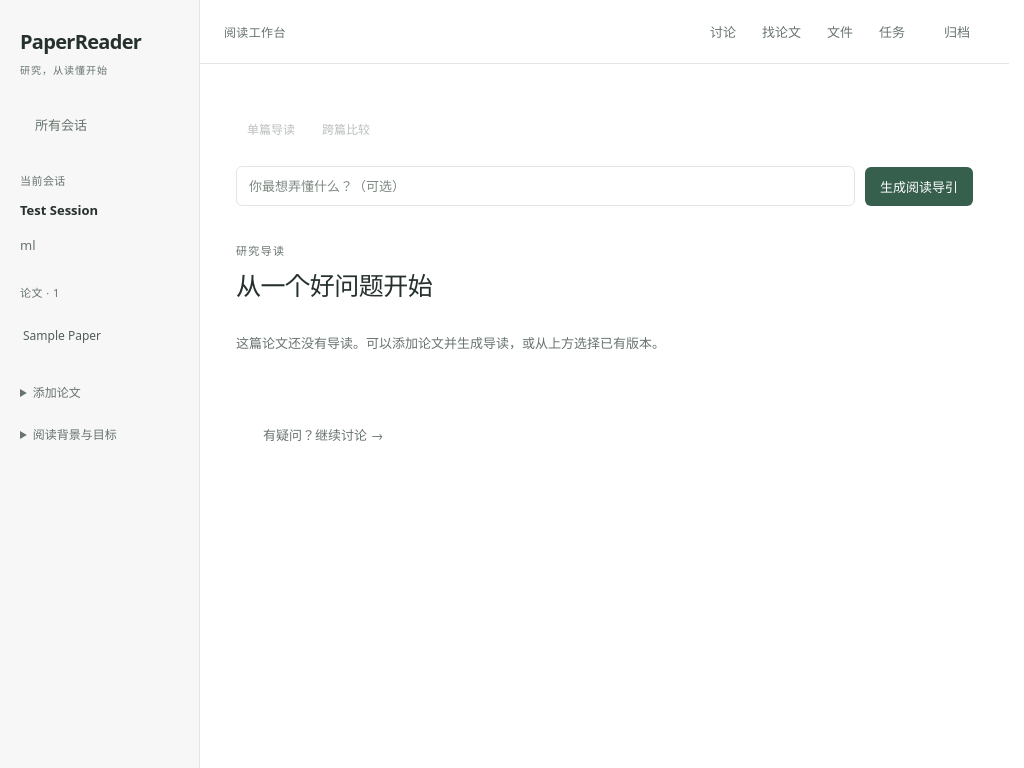
Scenario: WorkspaceScreen › retains session creation with reading background and goal
Click the button "所有会话": coordinates (61, 124) x1=20 y1=105 x2=102 y2=144
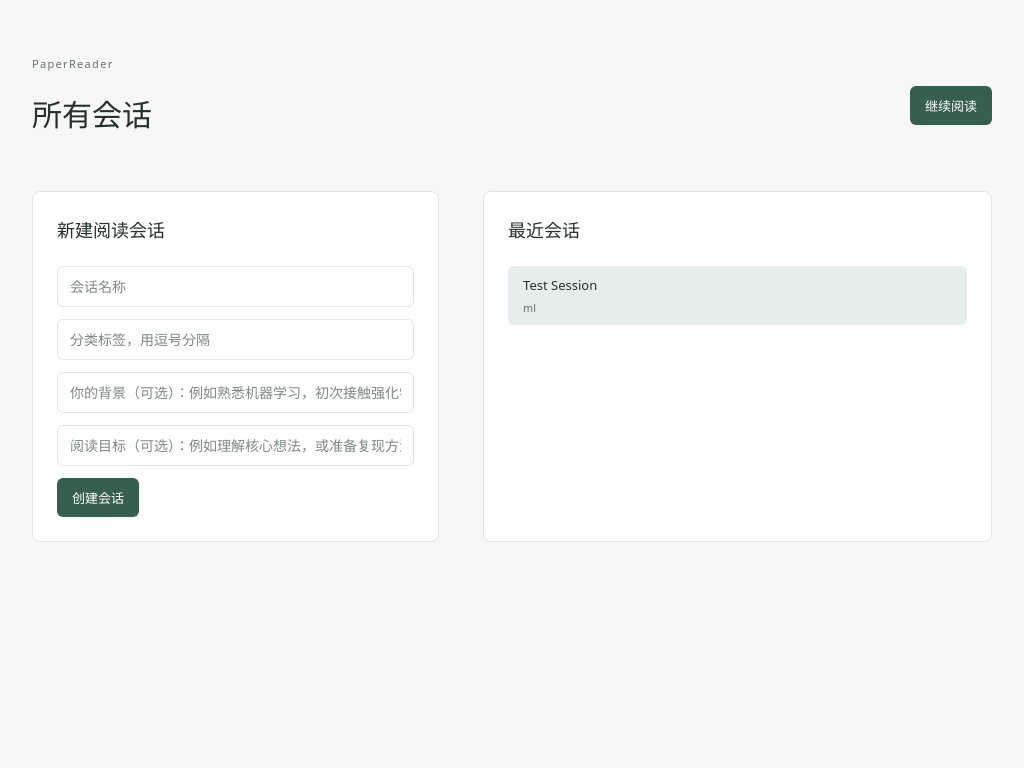
In the field labelled "会话名称": coordinates (236, 287) x1=57 y1=266 x2=414 y2=307, type "My reading"
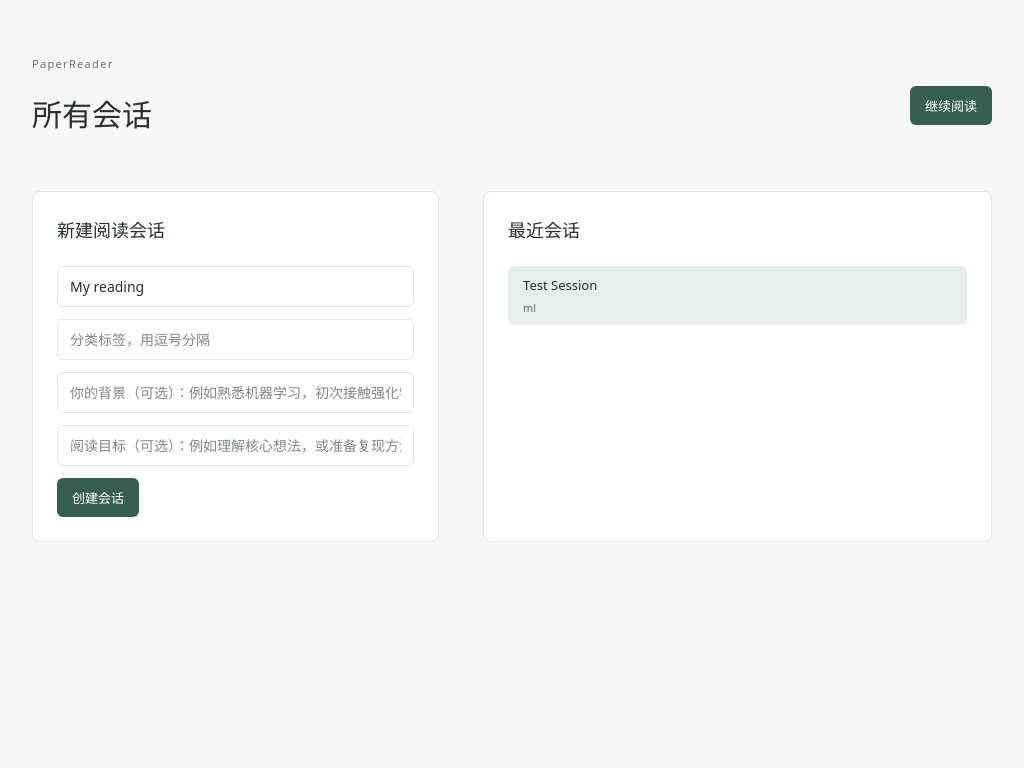
In the field labelled "分类标签": coordinates (236, 340) x1=57 y1=319 x2=414 y2=360, type "theory, ml"
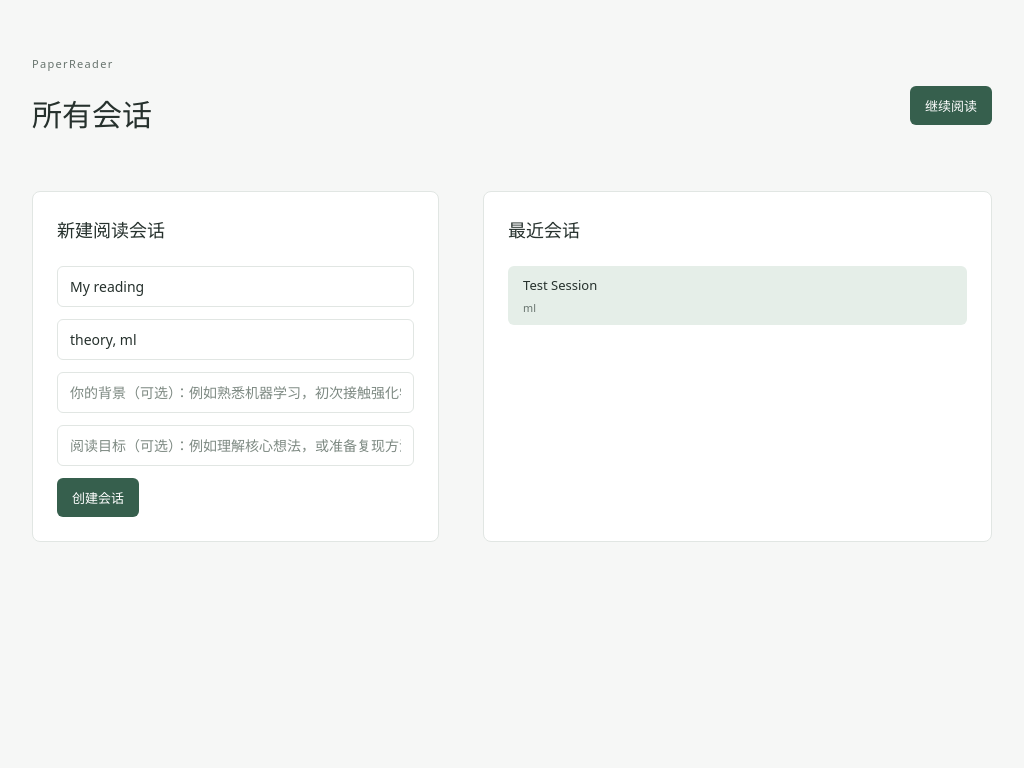
In the field named "阅读背景": coordinates (236, 393) x1=57 y1=372 x2=414 y2=413, type "PhD student"
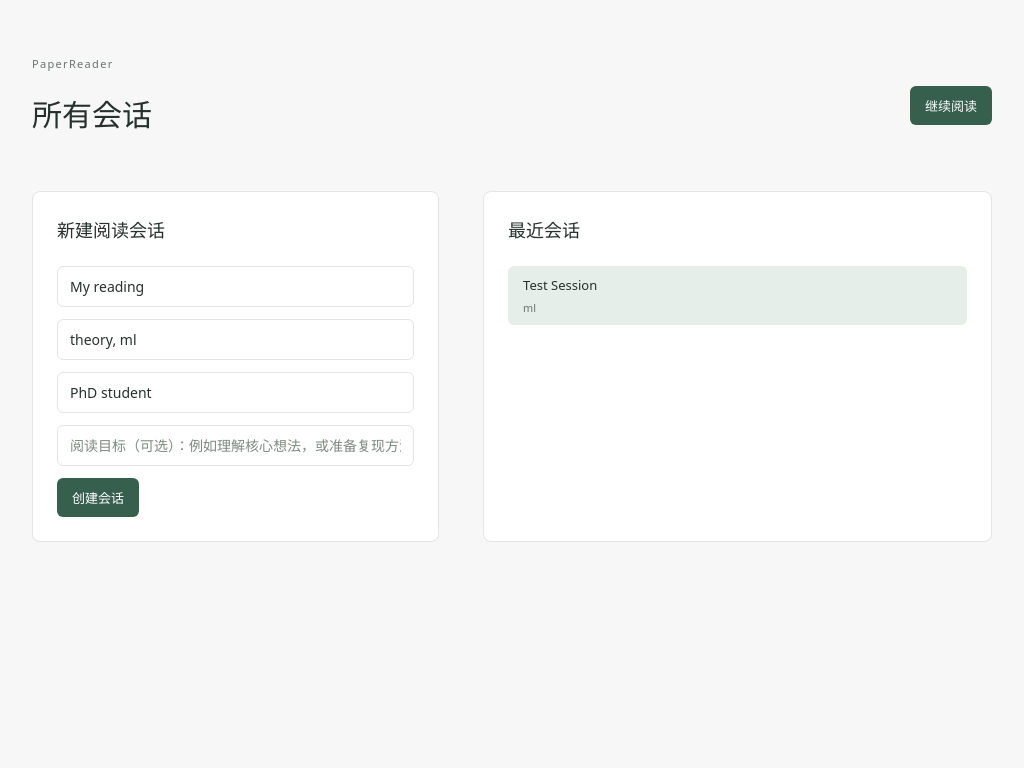
In the field labelled "阅读目标": coordinates (236, 446) x1=57 y1=425 x2=414 y2=466, type "Understand assumptions"
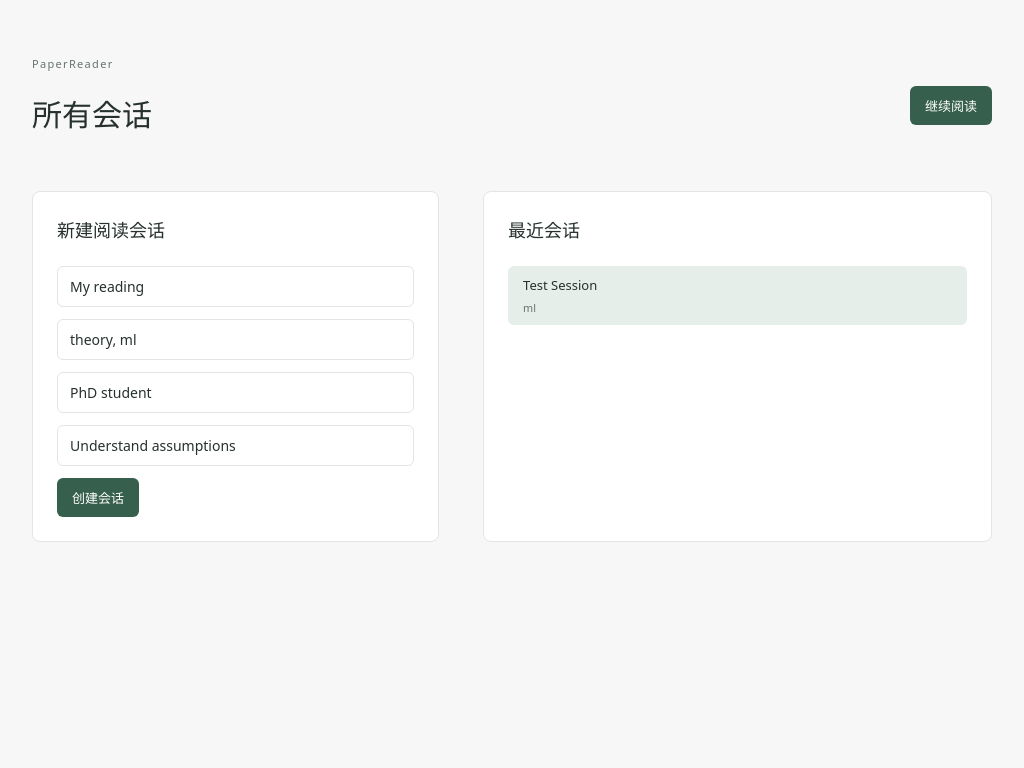
Click the button "创建会话": coordinates (98, 498) x1=57 y1=478 x2=139 y2=517
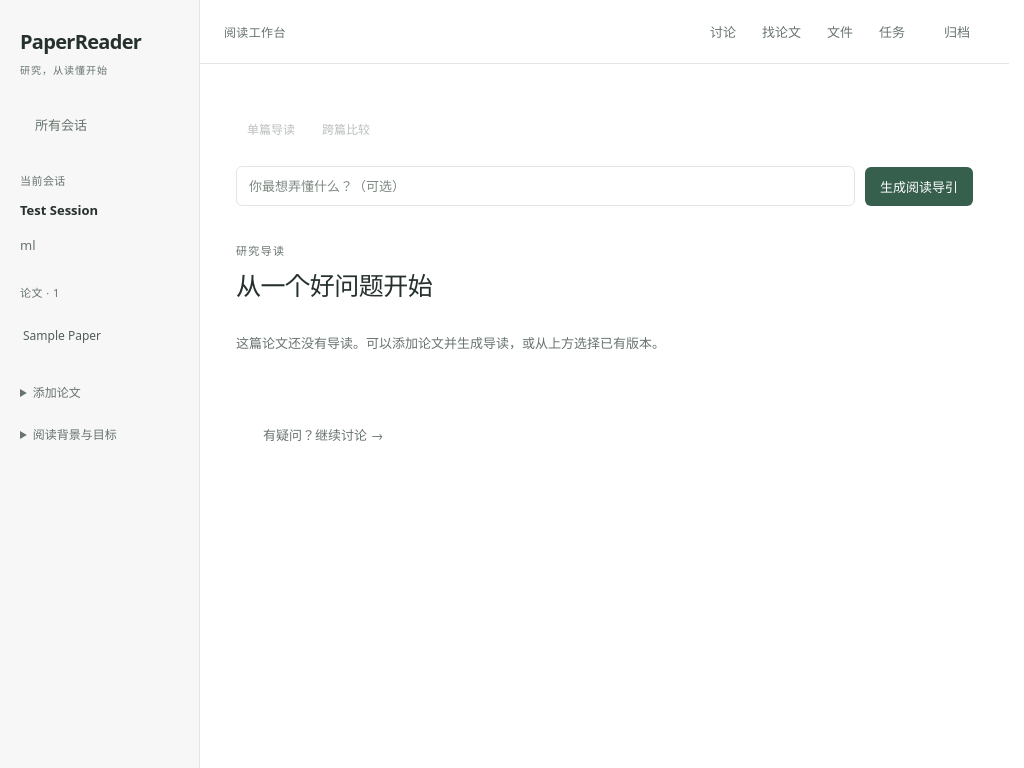
Expected: the button "生成阅读导引" is shown, x1=865 y1=166 x2=973 y2=206
